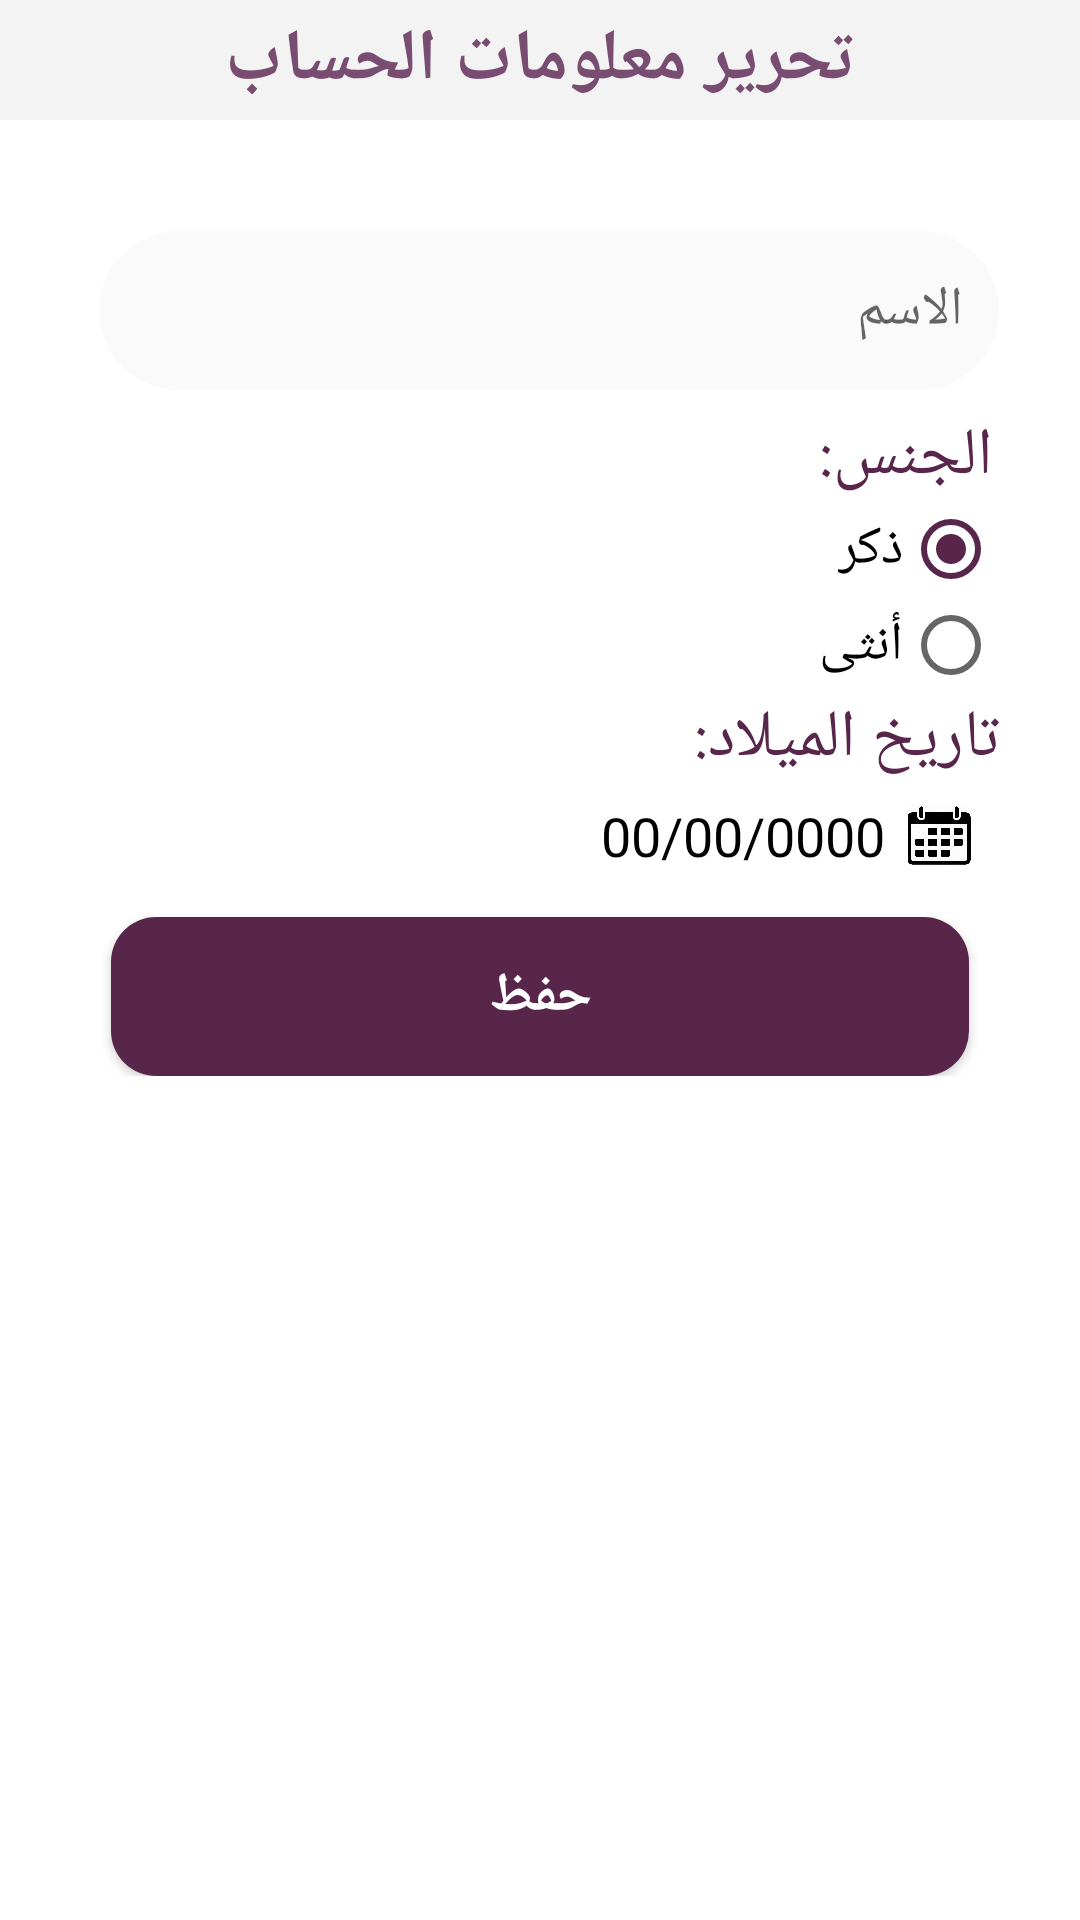

Icon click points for this 1080 x 1920 phone screenshot, format [x,y]:
calendarr: [939,835]
